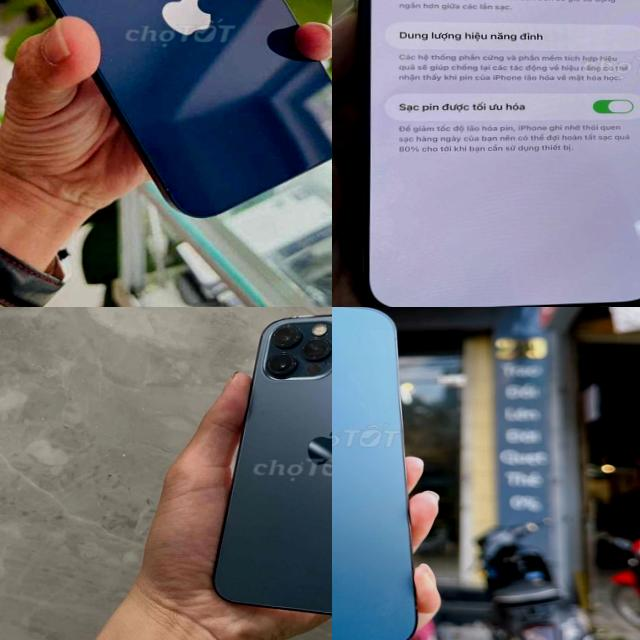gen_12_13: (0, 0, 332, 222), (205, 307, 332, 626), (332, 307, 433, 640)
gen_14: (339, 0, 640, 307)
